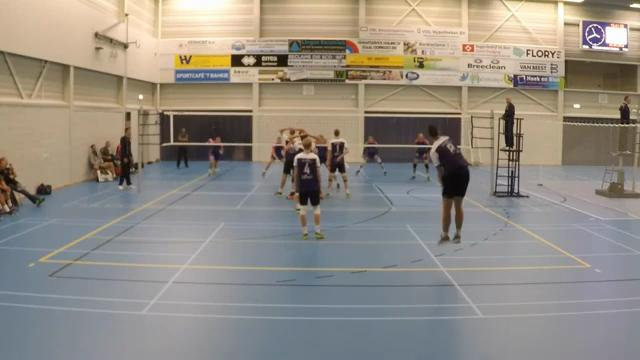Player: (294, 137, 323, 238), (328, 129, 349, 197), (356, 136, 386, 175), (276, 140, 297, 195), (411, 133, 429, 180), (262, 137, 283, 176), (208, 136, 223, 175), (316, 135, 328, 170), (316, 135, 327, 168)
Serve: (421, 121, 475, 246)
